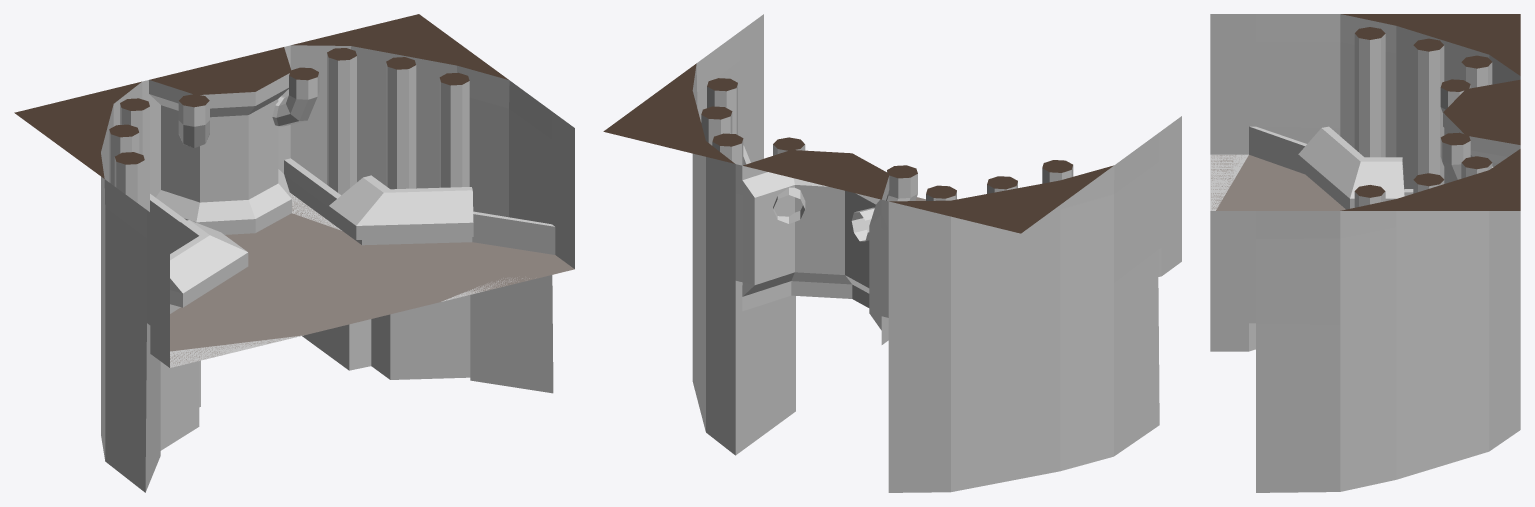
Rendered from Core.glb.
3 views of the same model, side by side, from view 1: azimuth 30°, elevation 25°; view 2: azimuth 150°, elevation 25°; view 3: azimuth 270°, elevation 25° (orthographic). The views are drawn at different scales.
Parts seen in each view (by area): view 1: Room; view 2: Room; view 3: Room.
Boxes of the visible parts, x1=… form: Room: x1=14, y1=14, x2=574, y2=492; Room: x1=603, y1=14, x2=1181, y2=492; Room: x1=1210, y1=14, x2=1520, y2=492.
Bounding box in the file's own units: 3.02 × 2 × 2.
